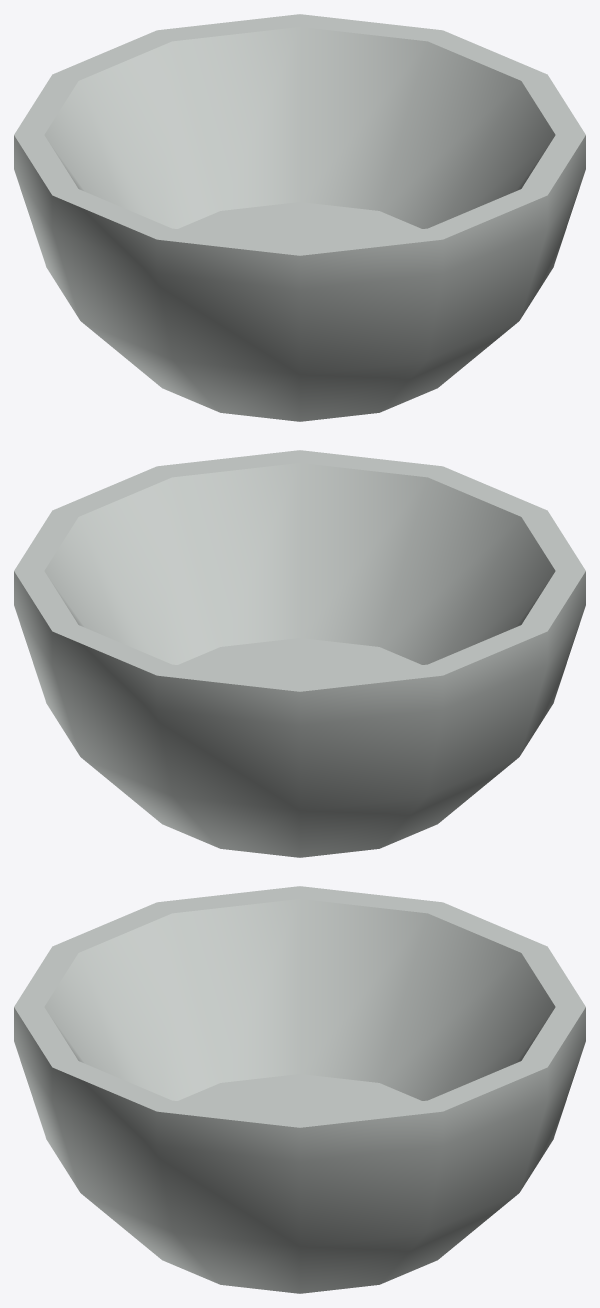
Rendered from Scodella_1.fbx.
The picture shows the model from 3 angles, top to bottom: view 1: azimuth 30°, elevation 25°; view 2: azimuth 150°, elevation 25°; view 3: azimuth 270°, elevation 25°; orthographic projection.
Parts seen in each view (by area): view 1: Scodella_Bianca; view 2: Scodella_Bianca; view 3: Scodella_Bianca.
Part boxes in pixels (x1,y1,x2,y2): Scodella_Bianca: (14,14,585,421); Scodella_Bianca: (14,450,585,857); Scodella_Bianca: (14,886,585,1293).
Bounding box in the file's own units: 0.145 × 0.0614 × 0.145.
